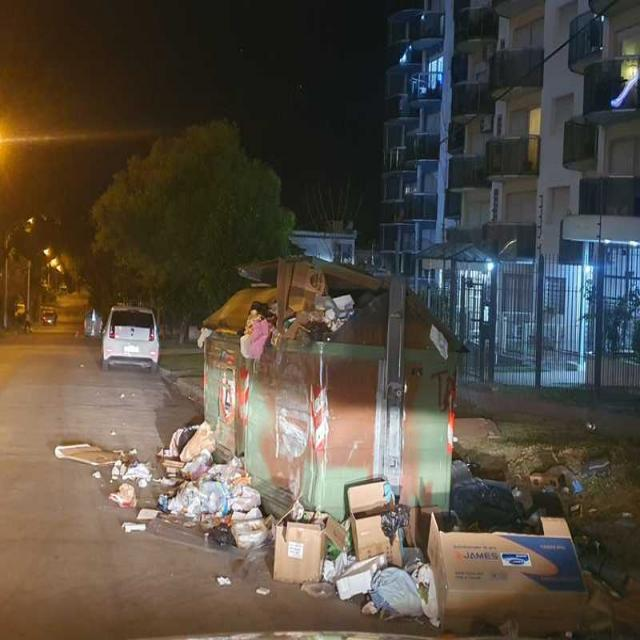garbage: (325, 472, 640, 640), (164, 420, 328, 601), (234, 258, 374, 372), (54, 436, 165, 537)
